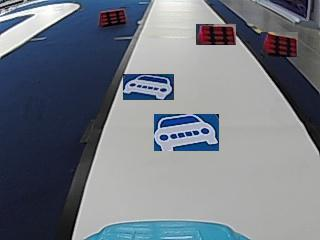bomb: (99, 7, 127, 25)
